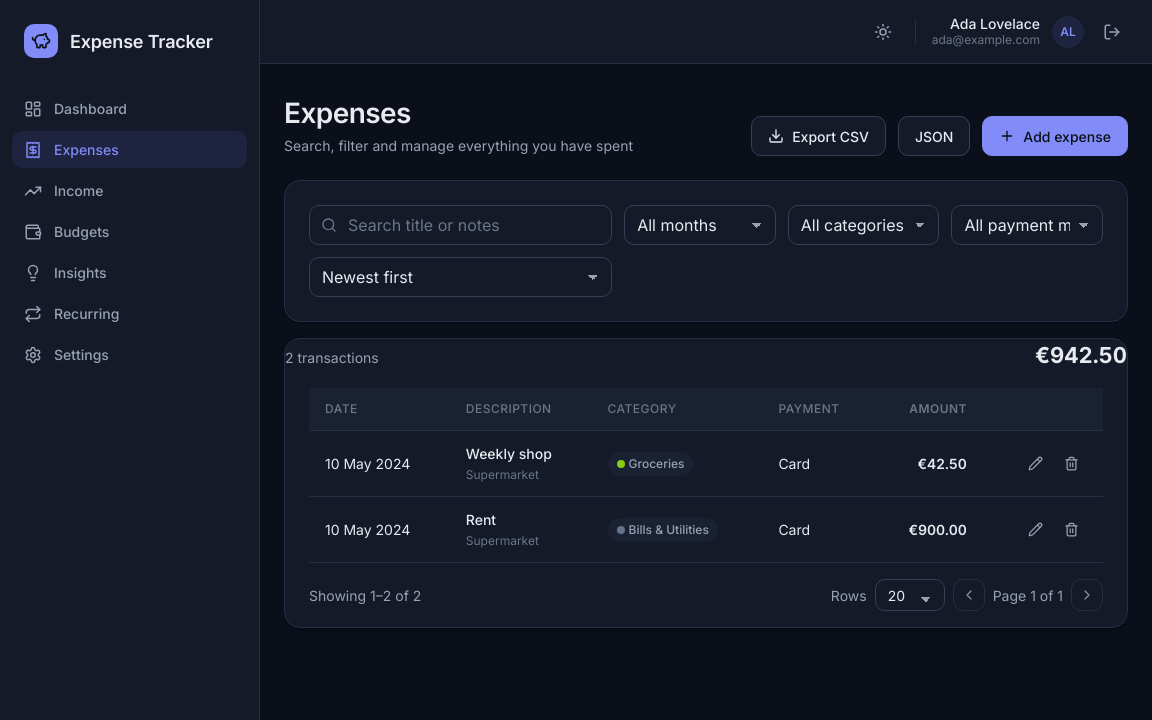
Test: expenses page › opens the add-expense dialog with a focus trap
Click the button "Add expense". click: (1055, 136)
box: top-left (982, 116), bottom-right (1128, 156)
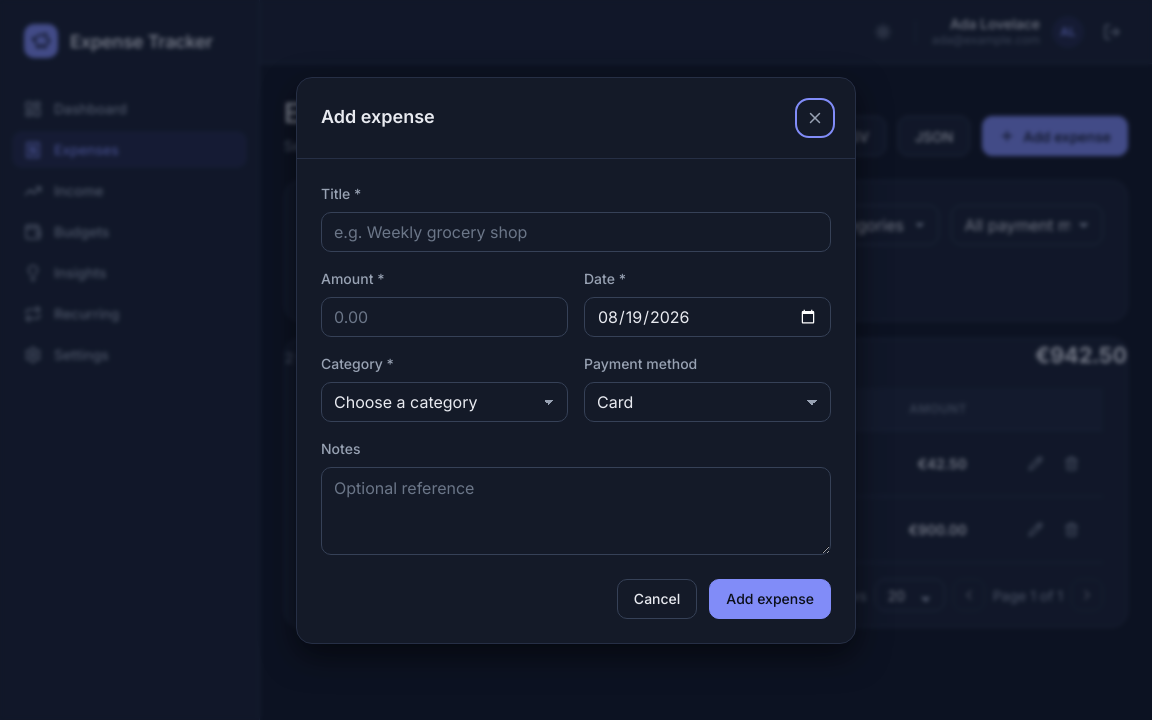
Now the field labelled "Title *" is shown, box top-left (321, 212), bottom-right (831, 252)
